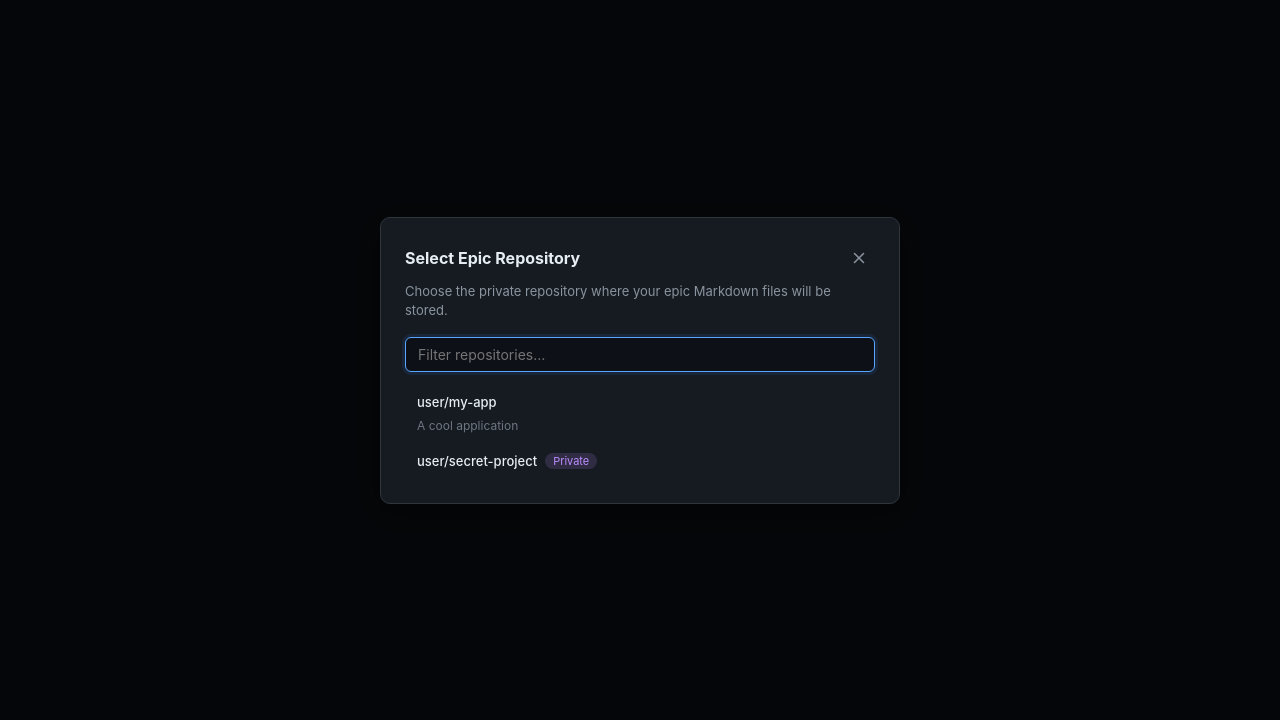
Scenario: RepoSelector › shows empty message when filter matches nothing
Type "nonexistent" into the field with test id "repo-filter" at [640, 354], box [405,336,875,372]
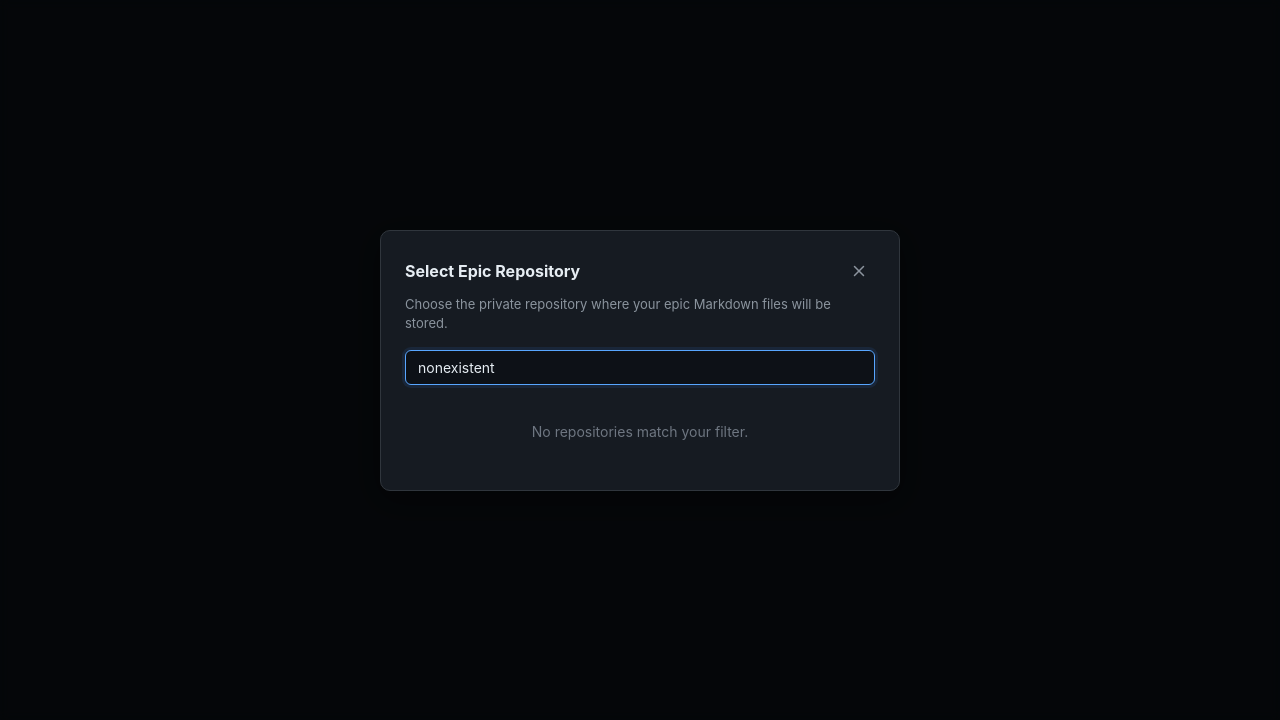
Expected: the list item "No repositories match your filter." is shown, [532,422,748,440]
